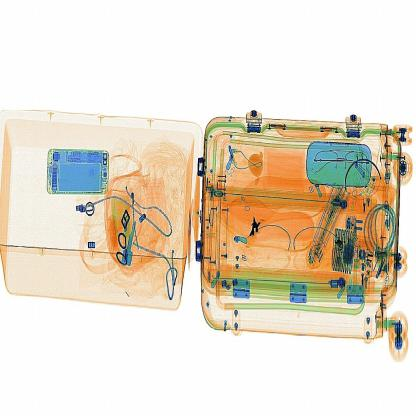gun: (243, 198, 272, 251)
